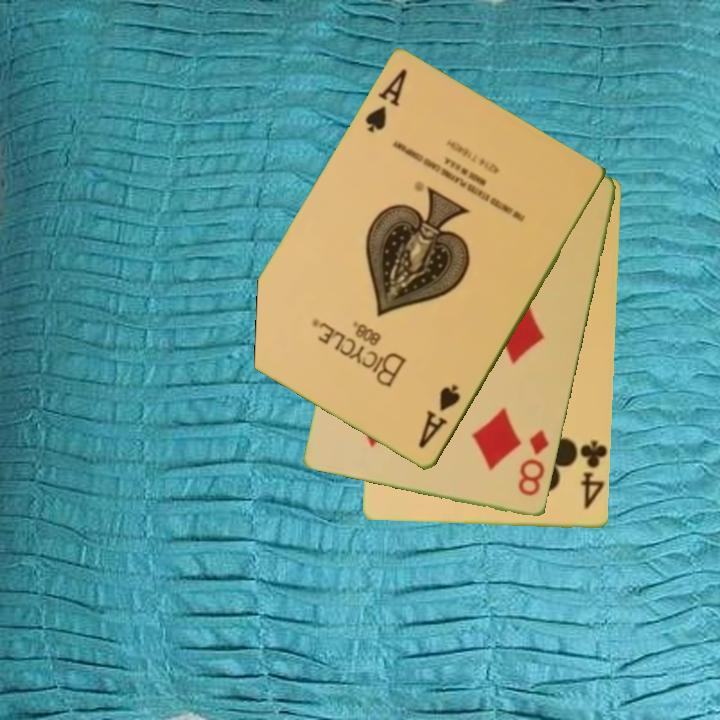4c: (577, 437, 608, 513)
8d: (515, 426, 553, 500)
As: (415, 381, 464, 453), (362, 66, 411, 137)
